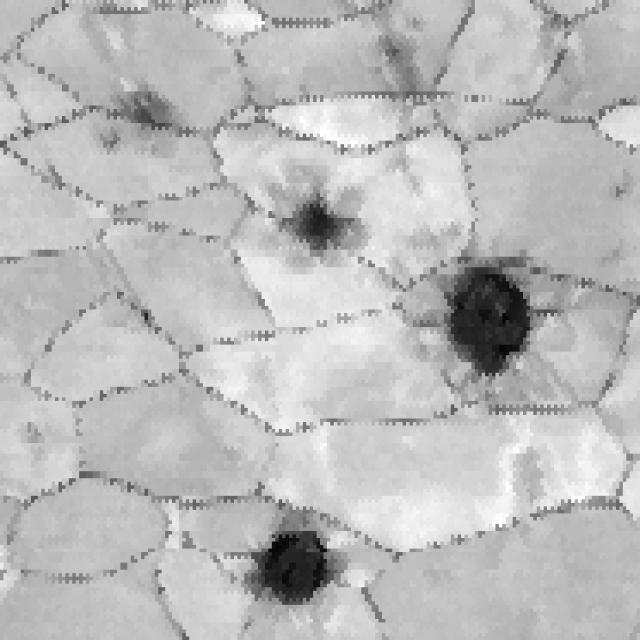good_void: (437, 261, 534, 390), (233, 519, 336, 607), (279, 197, 347, 263), (121, 85, 187, 151), (381, 16, 427, 103), (605, 163, 637, 202), (100, 127, 122, 149)
